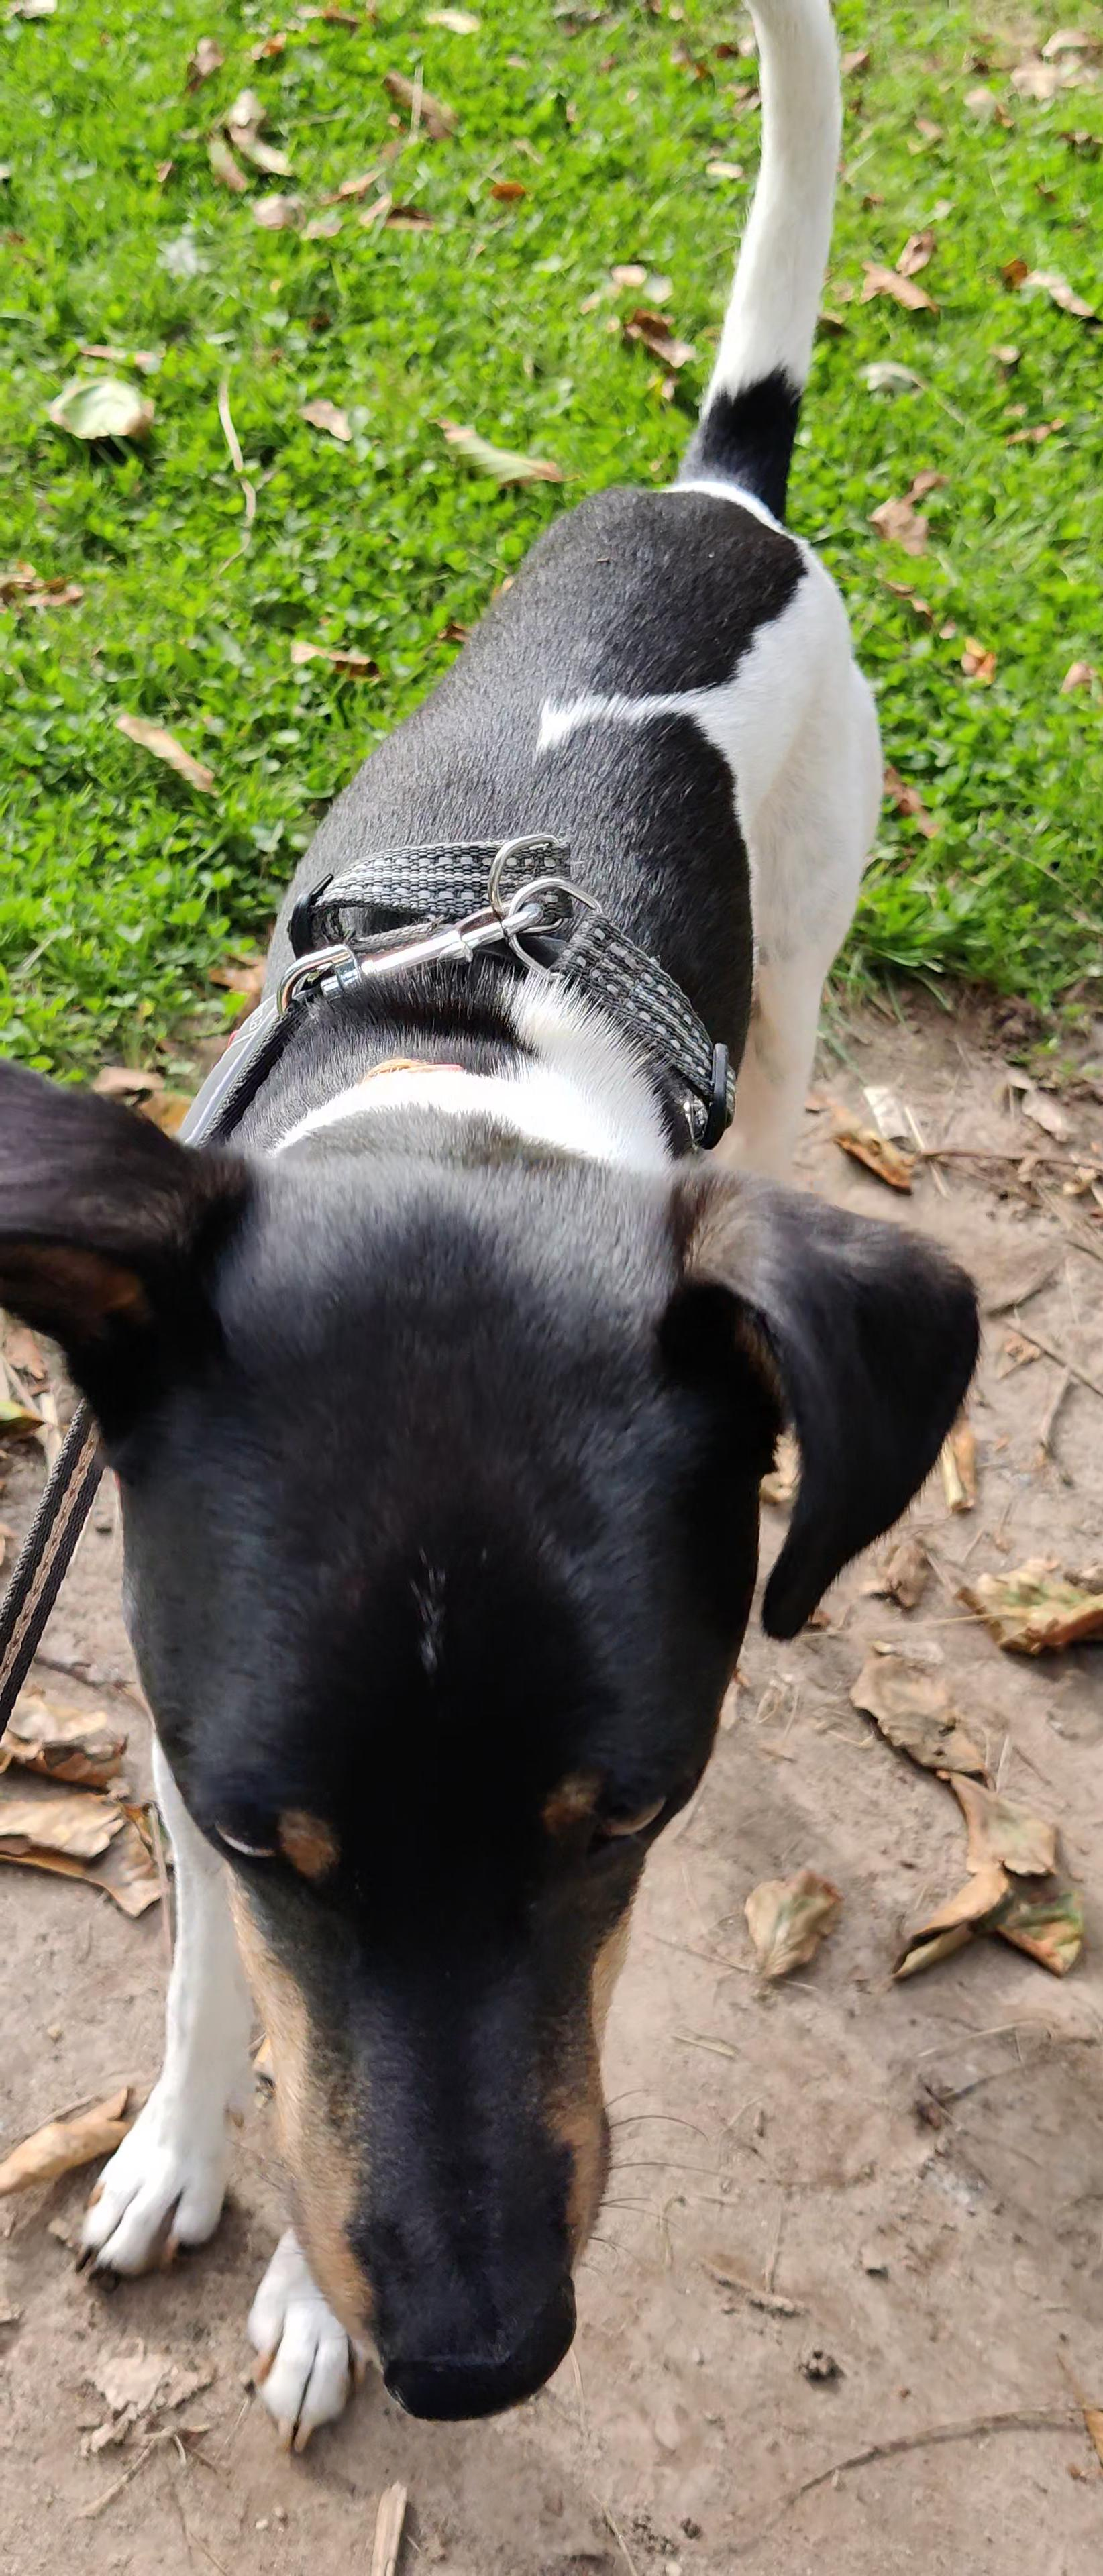Dog: (0, 0, 1008, 2474)
